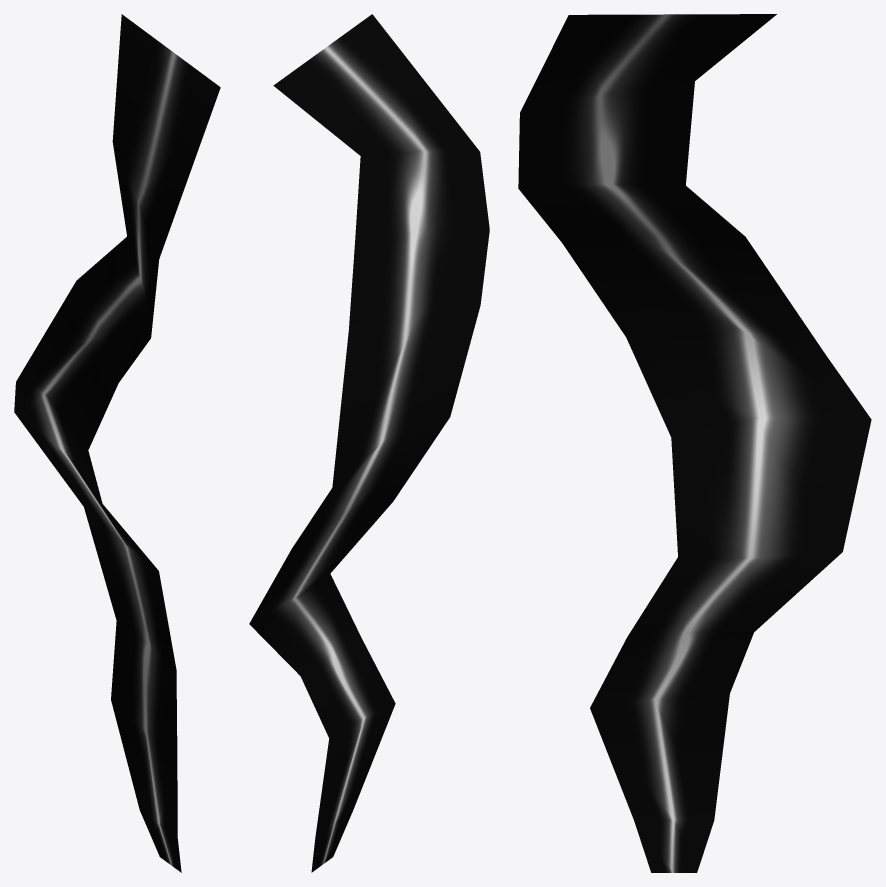
File: LightningPlane04.fbx
3 views of the same model, side by side, from view 1: azimuth 30°, elevation 25°; view 2: azimuth 150°, elevation 25°; view 3: azimuth 270°, elevation 25° (orthographic). The views are drawn at different scales.
Parts seen in each view (by area): view 1: LightningPlane04; view 2: LightningPlane04; view 3: LightningPlane04.
Part boxes in pixels (left/top/right/bottom): LightningPlane04: left=14, top=14, right=220, bottom=872; LightningPlane04: left=249, top=14, right=489, bottom=872; LightningPlane04: left=518, top=14, right=871, bottom=872.
Size of the model in its own units: 53.87 by 399 by 149.
